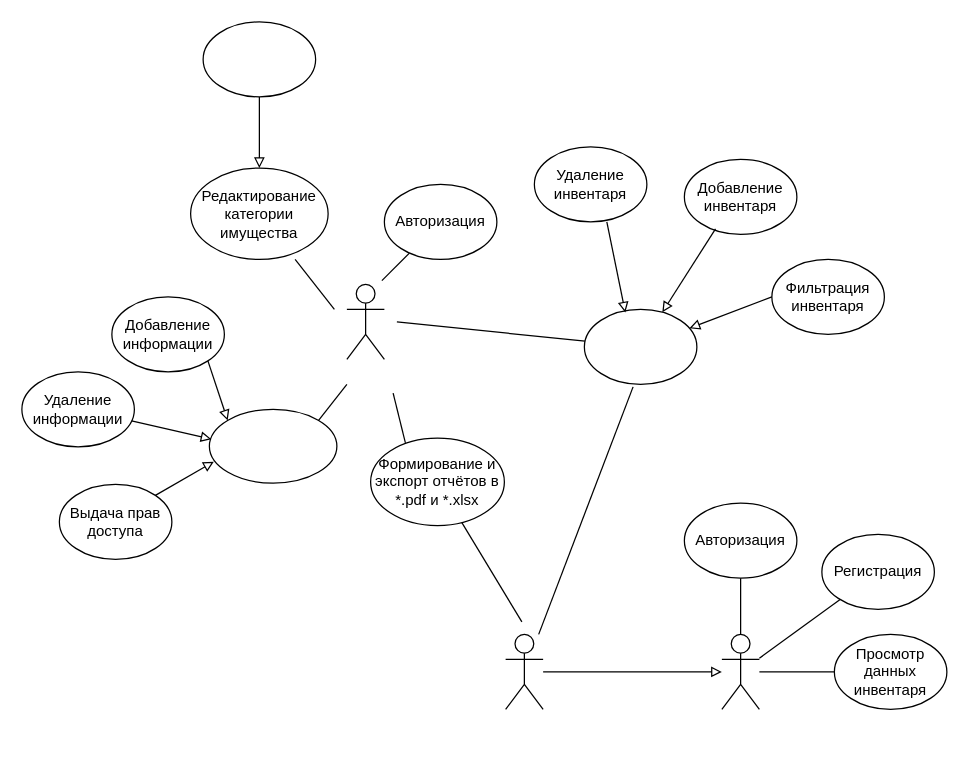
Some shapes in this 969 by 758 pixel diagram are drawn without their labels. The shapes that lost their labels are listed below. From the top down, each one's centre as x and y in pixels, then its label:
At [259,59]: "Фильтрация".
At [365,321]: "Администратор".
At [640,346]: "Инвентаризация".
At [272,445]: "Управление пользователями".
At [523,671]: "Авторизованный пользователь".
At [740,671]: "Гость".
